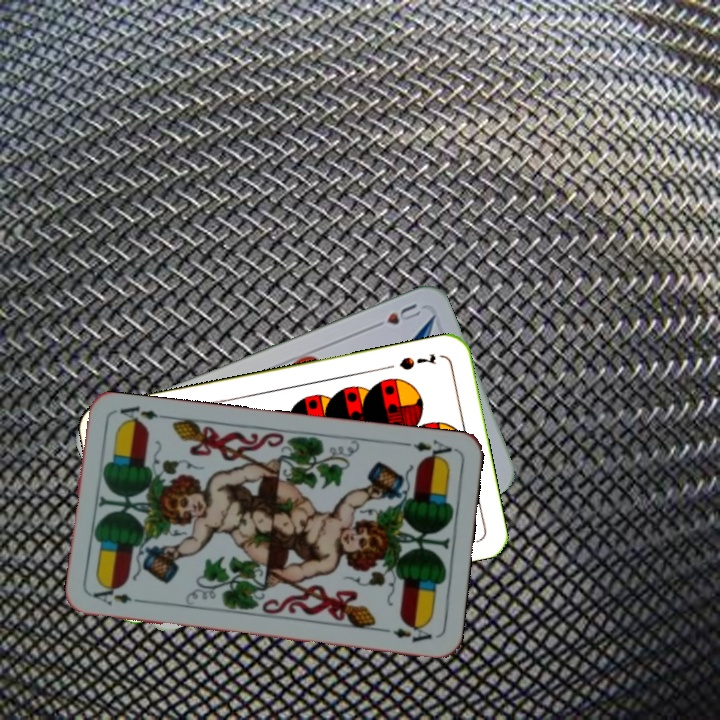EA: (398, 435, 457, 465), (89, 586, 148, 608)
HU: (367, 299, 424, 332)
S7: (395, 350, 439, 373)
